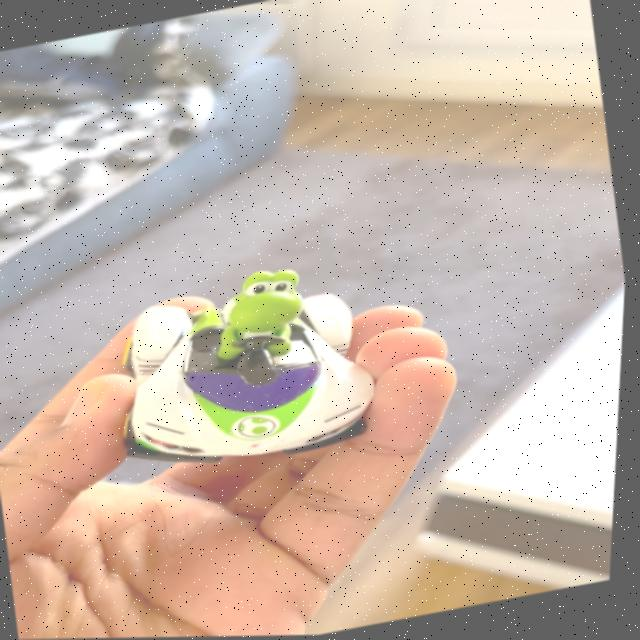yoshi: (90, 242, 415, 491)
